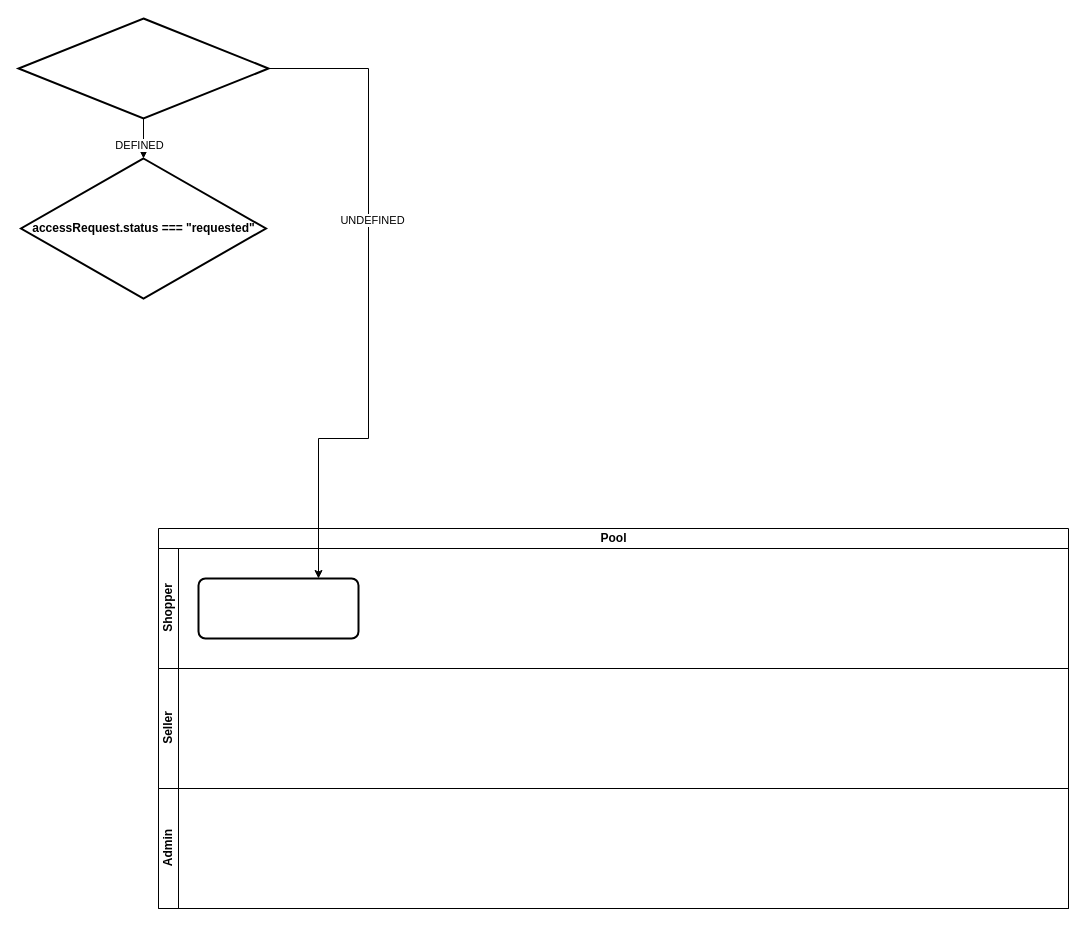
This 1086x926 diagram has some shape labels left out. Here are the shapes that lost their labels. From the top down, the centre of each, then its label:
At (143,68): "accessRequest ?".
At (278,608): "Show message to join seller program".
